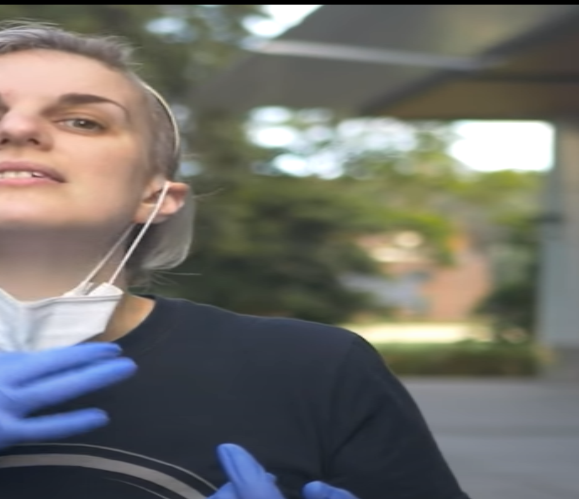mask_weared_incorrect: (1, 19, 187, 348)
